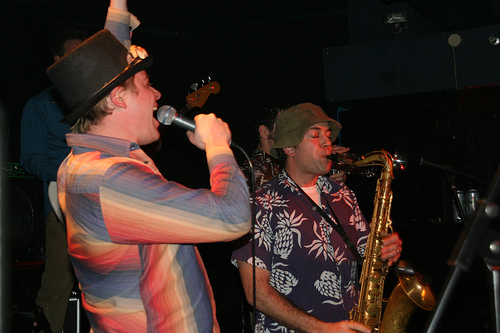without_mask: (74, 58, 190, 158), (275, 105, 345, 177)
